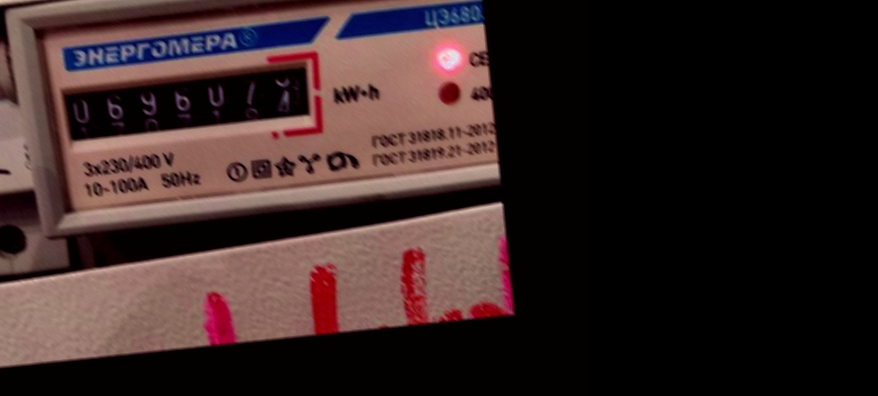0: (206, 77, 227, 109), (72, 95, 92, 125)
4: (274, 85, 294, 116)
6: (173, 82, 193, 112), (106, 91, 125, 120)
7: (240, 75, 262, 107)
9: (138, 87, 159, 117)
screen: (47, 47, 332, 159)
